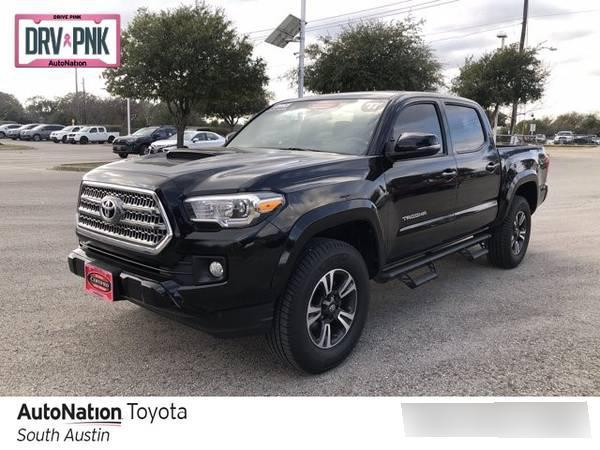Front_Bumper: (66, 194, 302, 339)
Front_Fender: (265, 152, 387, 266)
Front_Left_Door: (384, 152, 458, 261)
Front_Left_Window: (384, 101, 450, 161)
Front_Windshield: (224, 99, 386, 154)
Grille: (73, 182, 172, 258)
Hood: (84, 145, 372, 194)
Left_Headlight: (185, 189, 289, 229)
Rear_Fender: (498, 146, 550, 215)
Rear_Left_Door: (453, 147, 503, 238)
Rear_Left_Window: (438, 104, 486, 156)
Roof: (274, 90, 494, 154)
Wheel: (268, 238, 371, 375), (490, 197, 532, 268)
